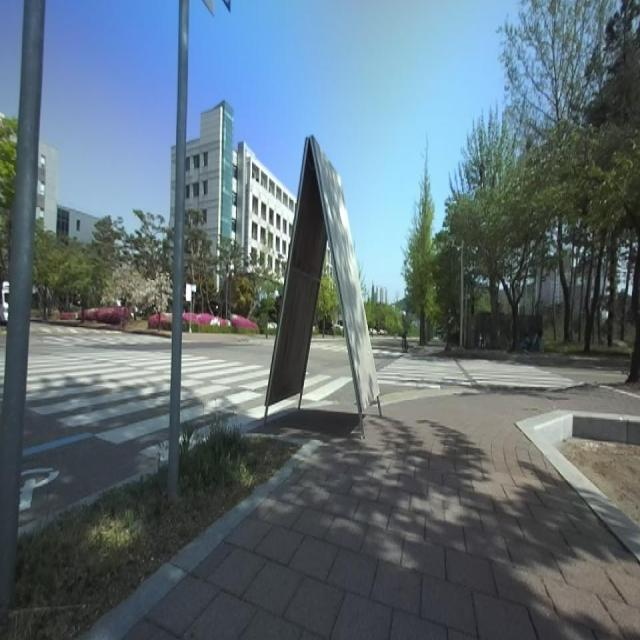sidewalk: (126, 389, 640, 640), (410, 340, 446, 355), (182, 334, 244, 342), (160, 331, 172, 336)
